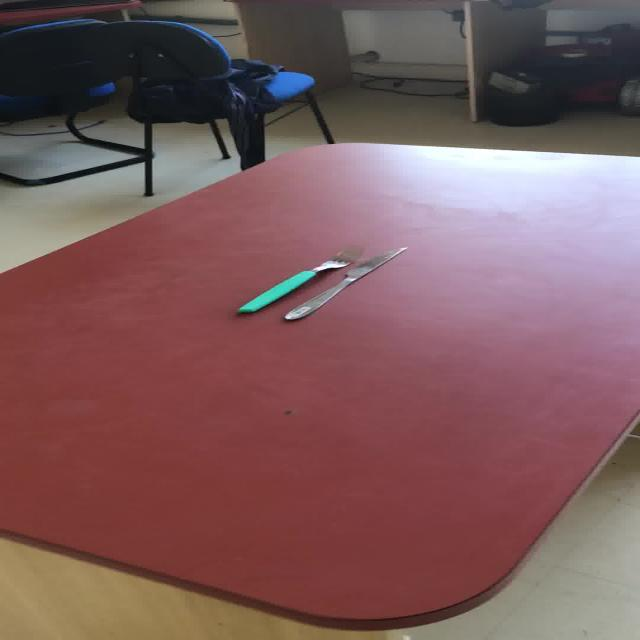knife fork: (283, 245, 407, 320), (235, 244, 364, 314)
